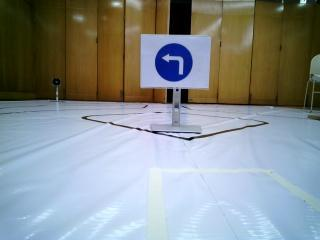left: (137, 34, 211, 93)
